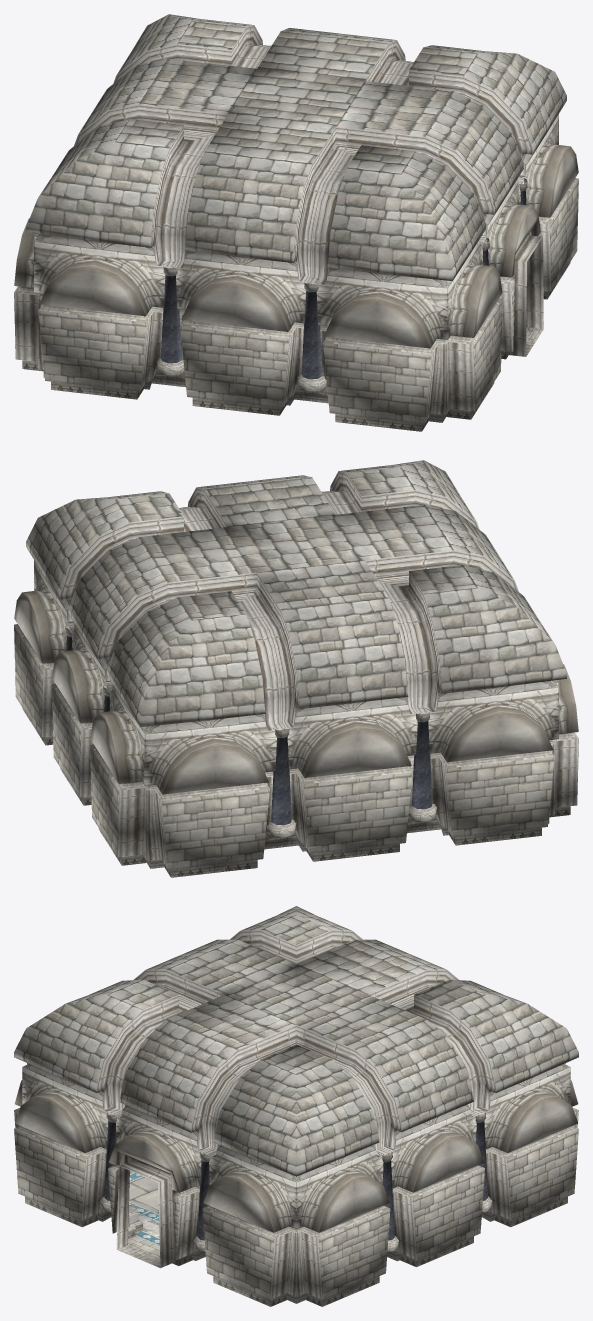
The model's file is stormwind_180.fbx.
The picture shows the model from 3 angles, top to bottom: view 1: azimuth 30°, elevation 25°; view 2: azimuth 150°, elevation 25°; view 3: azimuth 270°, elevation 25°; orthographic projection. The views are drawn at different scales.
Visible parts, largest first — view 1: stormwind_180_165, stormwind_180_166, stormwind_180_168, stormwind_180_164, stormwind_180_169; view 2: stormwind_180_165, stormwind_180_166, stormwind_180_168, stormwind_180_164, stormwind_180_169; view 3: stormwind_180_165, stormwind_180_166, stormwind_180_168, stormwind_180_164, stormwind_180_169, stormwind_180_47, stormwind_180_167.
Part boxes in pixels (x1,y1,x2,y2): stormwind_180_165: (26,14,566,280); stormwind_180_166: (14,25,578,431); stormwind_180_168: (14,114,578,348); stormwind_180_164: (38,179,578,423); stormwind_180_169: (161,190,526,379); stormwind_180_165: (26,460,566,726); stormwind_180_166: (14,471,578,877); stormwind_180_168: (14,560,578,794); stormwind_180_164: (14,625,554,869); stormwind_180_169: (66,635,432,825); stormwind_180_165: (14,906,578,1176); stormwind_180_166: (14,930,578,1306); stormwind_180_168: (14,1067,578,1232); stormwind_180_164: (14,1129,578,1299); stormwind_180_169: (104,1121,487,1240); stormwind_180_47: (128,1176,159,1257); stormwind_180_167: (129,1171,159,1246).
Bounding box in the file's own units: 52.53 × 20.27 × 52.53.
